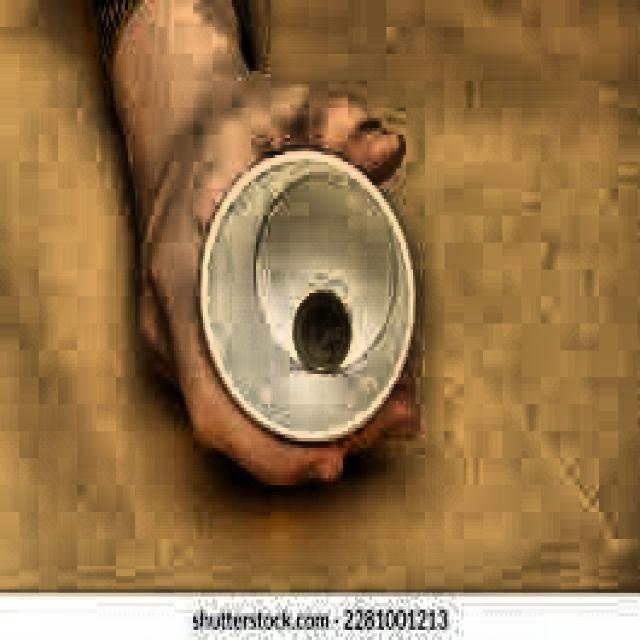Cup: (182, 132, 426, 452)
